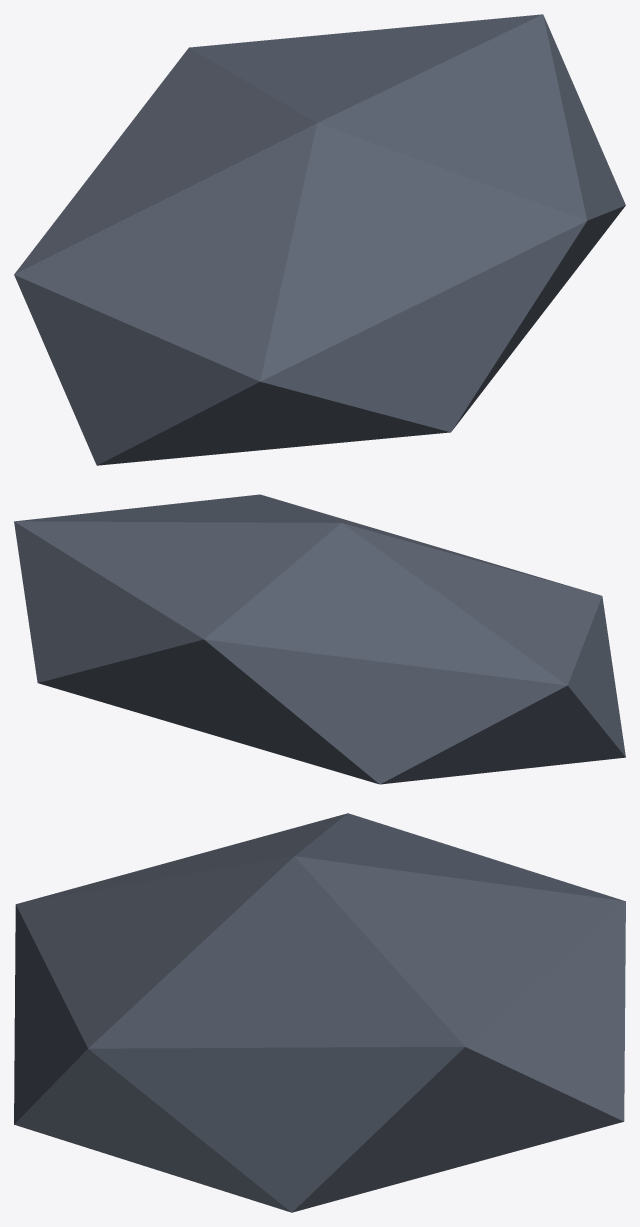
File: EXTG_SouthLooseStone_06.glb
3 views of the same model, one above another, from view 1: azimuth 30°, elevation 25°; view 2: azimuth 150°, elevation 25°; view 3: azimuth 270°, elevation 25° (orthographic). The views are drawn at different scales.
Visible parts, largest first — view 1: EXTG_SouthLooseStone_06; view 2: EXTG_SouthLooseStone_06; view 3: EXTG_SouthLooseStone_06.
Boxes of the visible parts, x1=… form: EXTG_SouthLooseStone_06: x1=14, y1=14, x2=625, y2=465; EXTG_SouthLooseStone_06: x1=14, y1=494, x2=625, y2=784; EXTG_SouthLooseStone_06: x1=14, y1=813, x2=625, y2=1212.
Size of the model in its own units: 0.9085 by 0.3782 by 0.7038.
